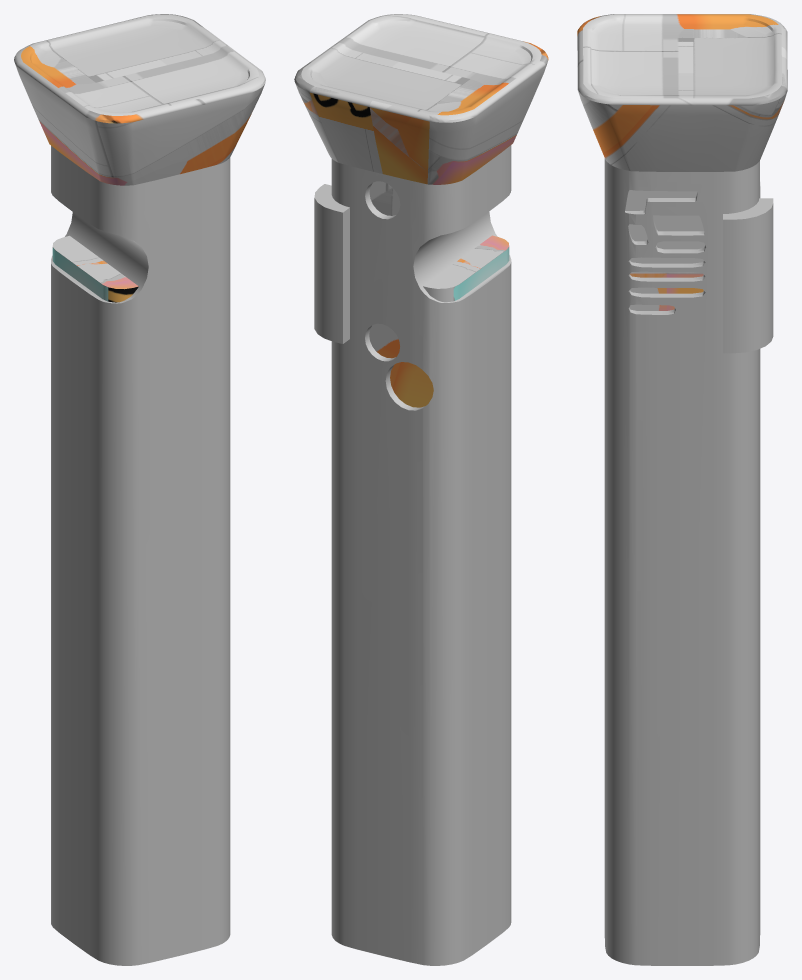
File: ikamoon_reuv.fbx
3 renders of one model, left to right at view 1: azimuth 30°, elevation 25°; view 2: azimuth 150°, elevation 25°; view 3: azimuth 270°, elevation 25°, orthographic.
Parts seen in each view (by area): view 1: Base, TopBanner; view 2: Base, TopBanner, banner; view 3: Base, TopBanner, banner.
Part boxes in pixels (box(x1,y1,x2,y2)): Base: box(21, 14, 258, 965); TopBanner: box(14, 14, 265, 185); Base: box(301, 14, 541, 965); TopBanner: box(294, 14, 548, 184); banner: box(314, 198, 342, 343); Base: box(583, 14, 781, 965); TopBanner: box(577, 14, 787, 171); banner: box(723, 203, 773, 353).
Bounding box in the file's own units: 5638 × 25899 × 5629.
